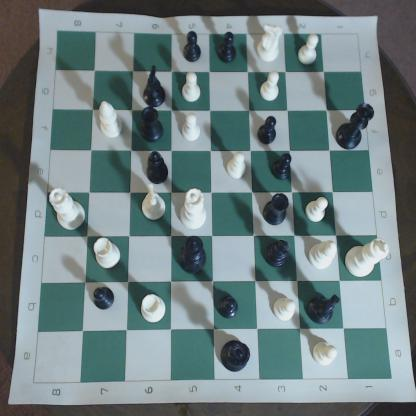black-bishop: (146, 150, 171, 189), (264, 242, 292, 274)
black-king: (182, 237, 209, 277)
black-knight: (308, 293, 343, 324), (141, 66, 166, 108)
black-pawn: (88, 285, 123, 318), (215, 31, 239, 70), (213, 290, 240, 323), (257, 117, 283, 151), (182, 31, 203, 66)
black-queen: (338, 101, 379, 155), (221, 339, 256, 375)
black-rook: (141, 106, 170, 146), (261, 193, 291, 229)
white-bishop: (95, 100, 128, 143), (306, 241, 340, 274)
white-king: (341, 232, 390, 281)
white-knight: (256, 20, 284, 64), (142, 181, 168, 226)
white-pawn: (296, 30, 326, 67), (260, 71, 285, 107), (181, 72, 208, 105), (305, 196, 333, 226), (313, 341, 340, 370), (273, 298, 298, 326), (178, 117, 201, 147), (225, 155, 247, 184)
white-queen: (46, 185, 89, 235), (179, 186, 209, 233)
white-rook: (94, 237, 121, 271), (139, 293, 168, 324)
